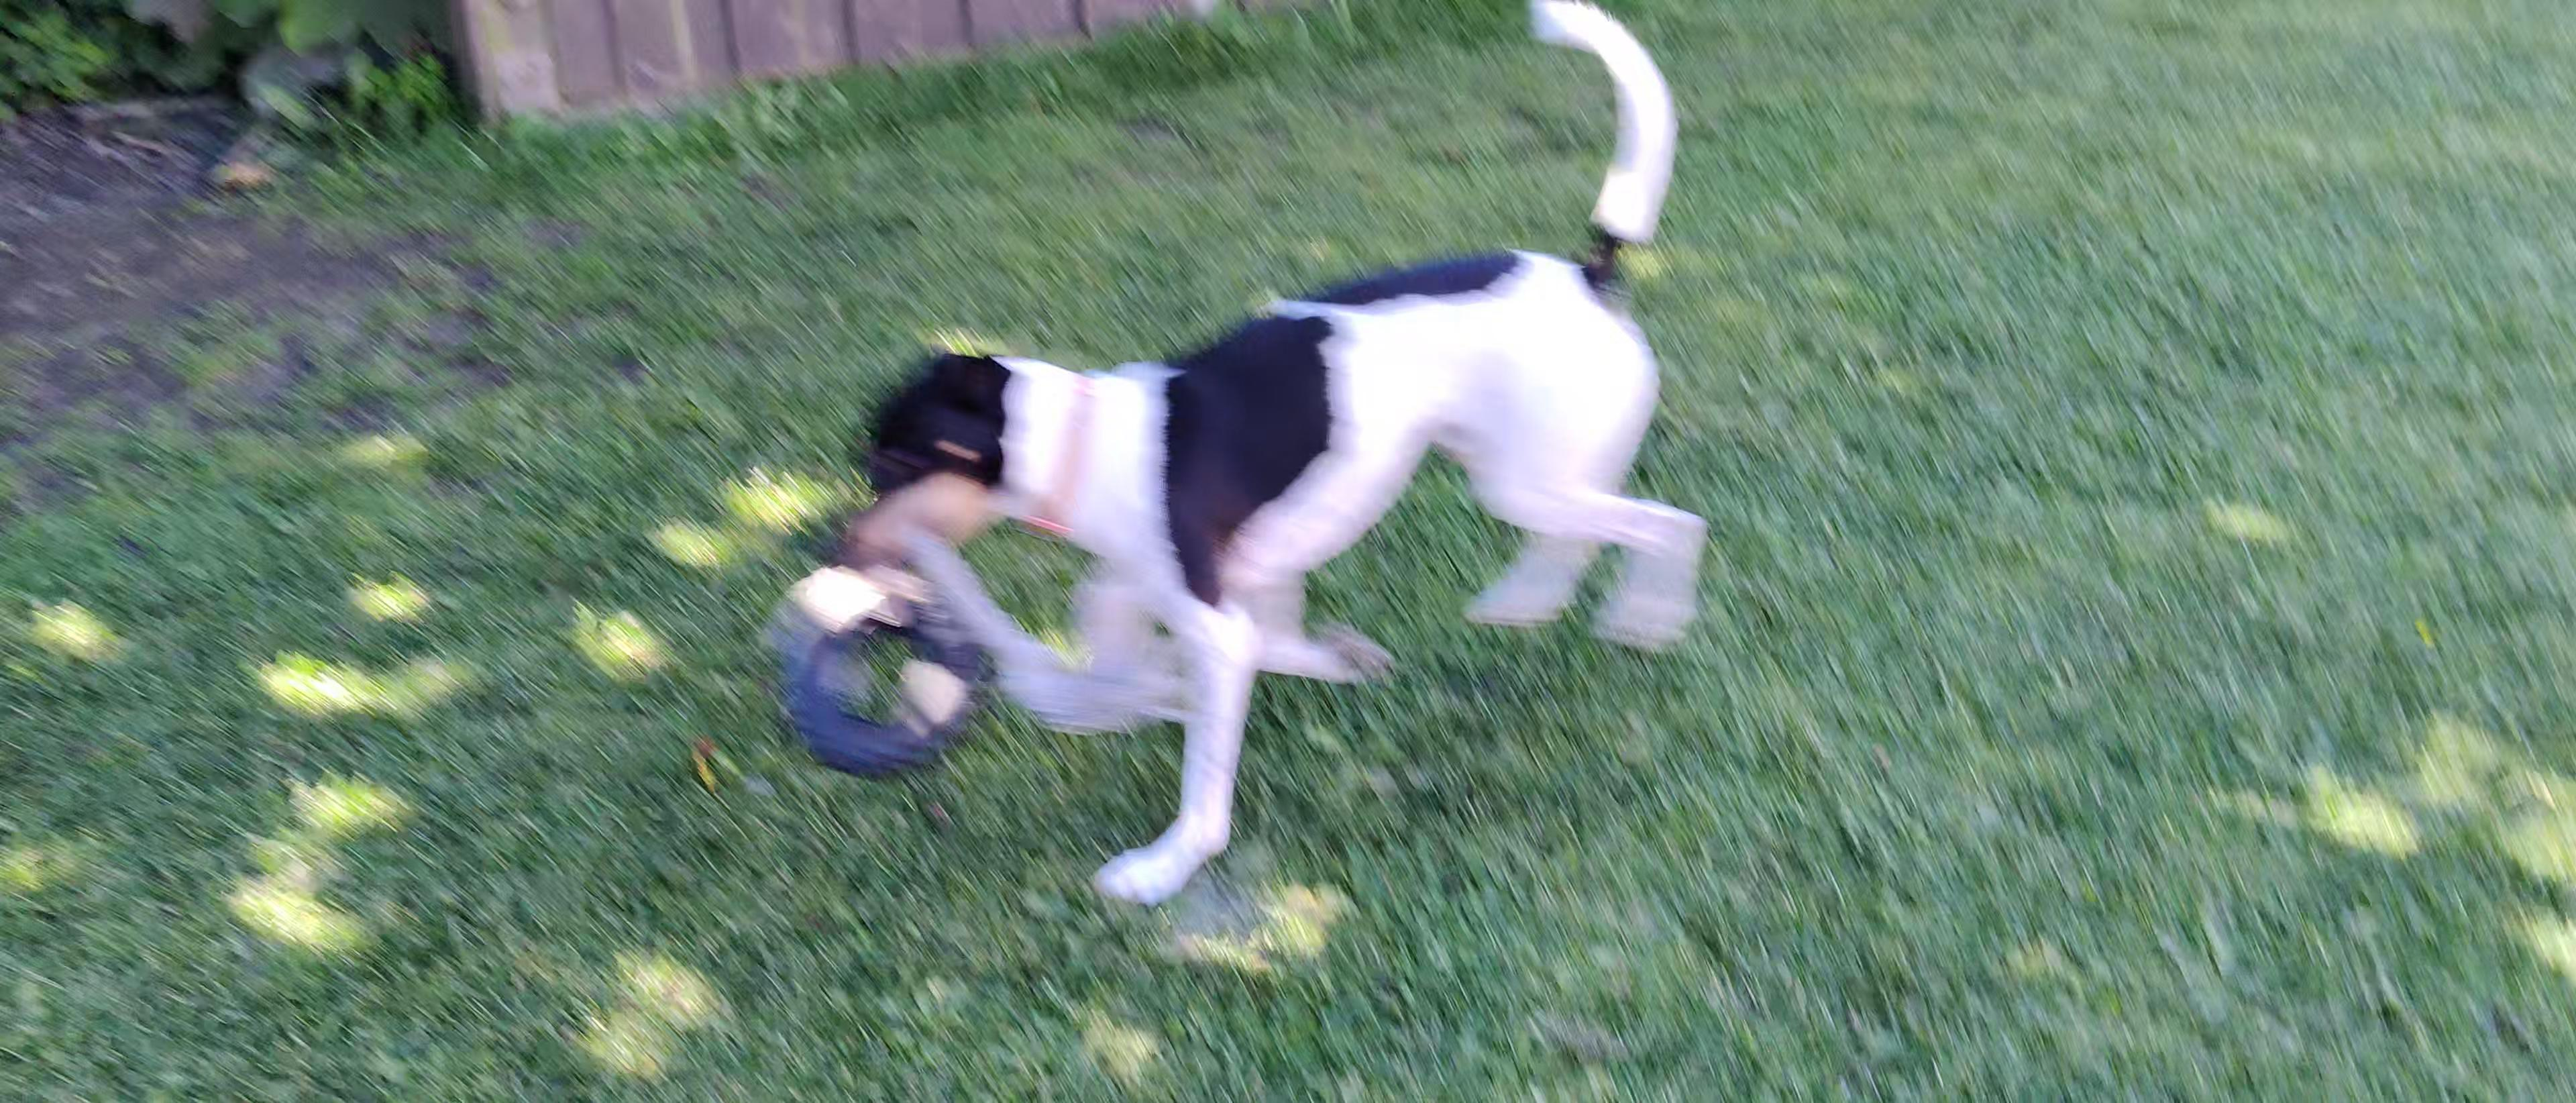Dog: (792, 0, 1732, 935)
